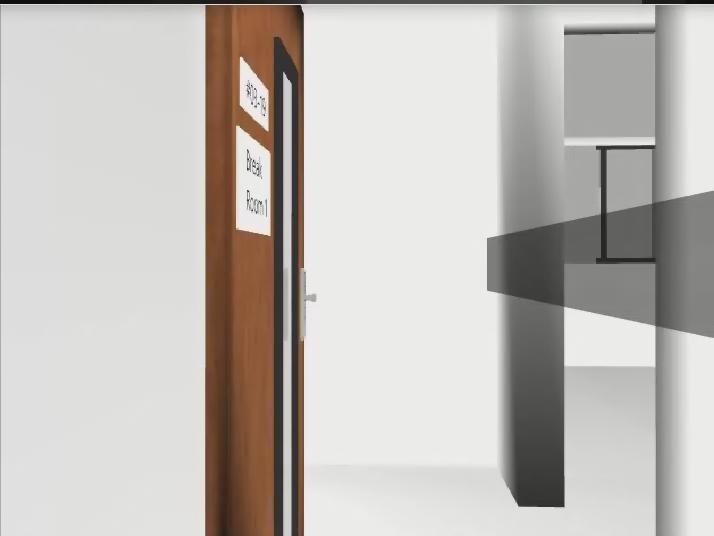door: (206, 6, 316, 536)
